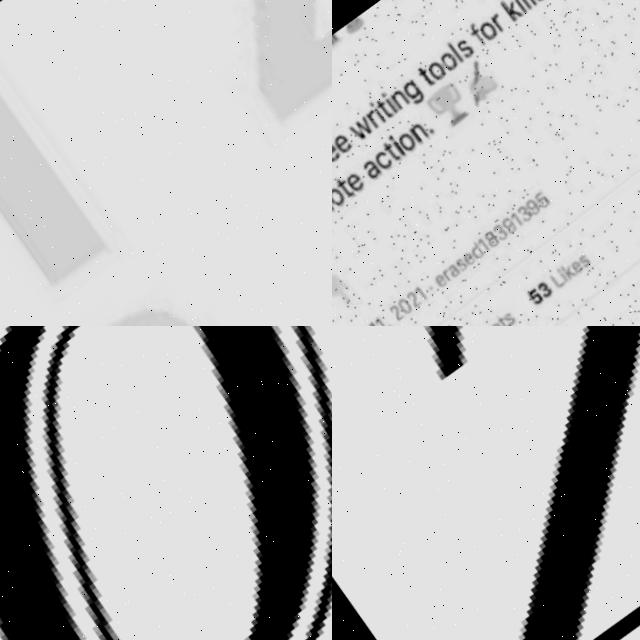0: (0, 326, 332, 640), (397, 294, 416, 315)
1: (0, 26, 126, 318), (414, 283, 432, 305), (476, 235, 494, 253), (508, 210, 525, 228), (373, 313, 391, 326), (366, 319, 384, 326)
2: (115, 0, 332, 130), (406, 288, 425, 308), (389, 301, 407, 321)
3: (492, 221, 511, 241), (515, 202, 534, 222), (537, 279, 556, 298)
5: (528, 286, 547, 305), (534, 188, 552, 208)
8: (484, 227, 502, 247)
9: (501, 214, 519, 234), (524, 196, 542, 216)
Z: (332, 326, 640, 640)
